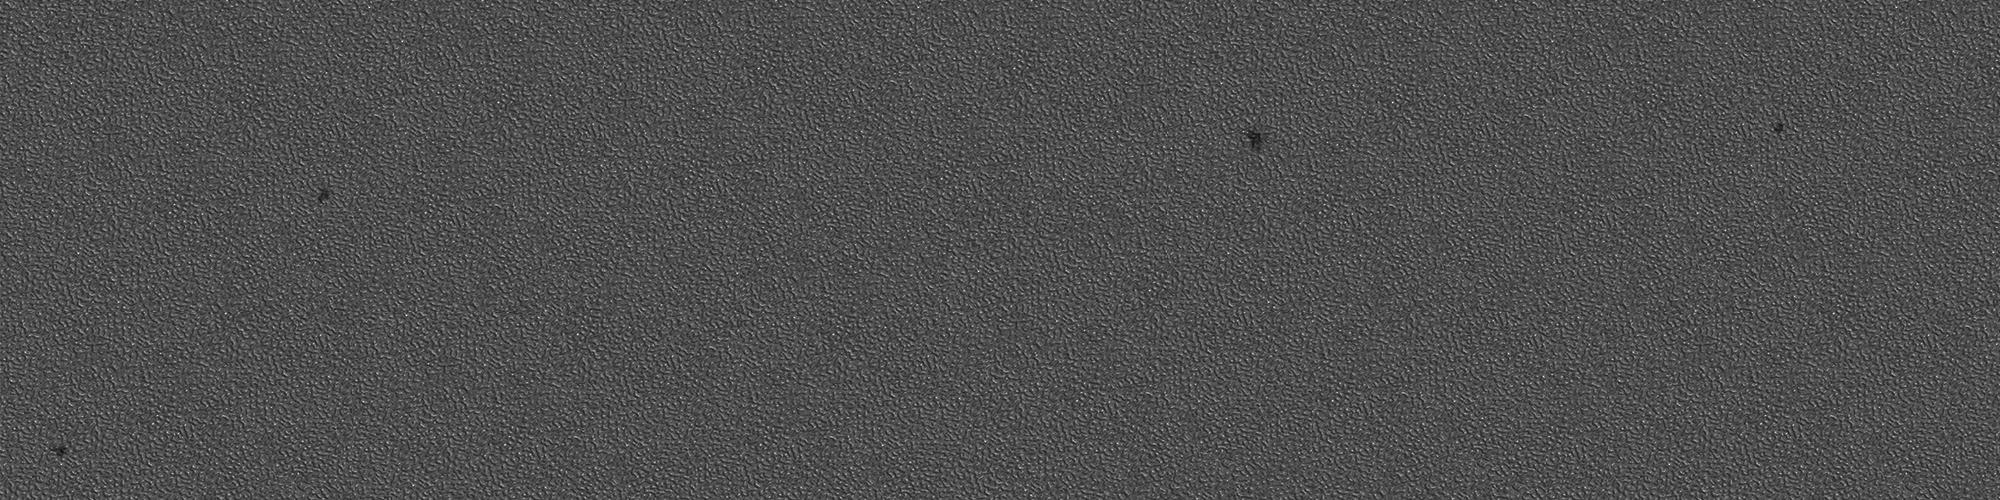Decomposed: (318, 181, 338, 212), (51, 443, 71, 466), (1249, 122, 1261, 156)
